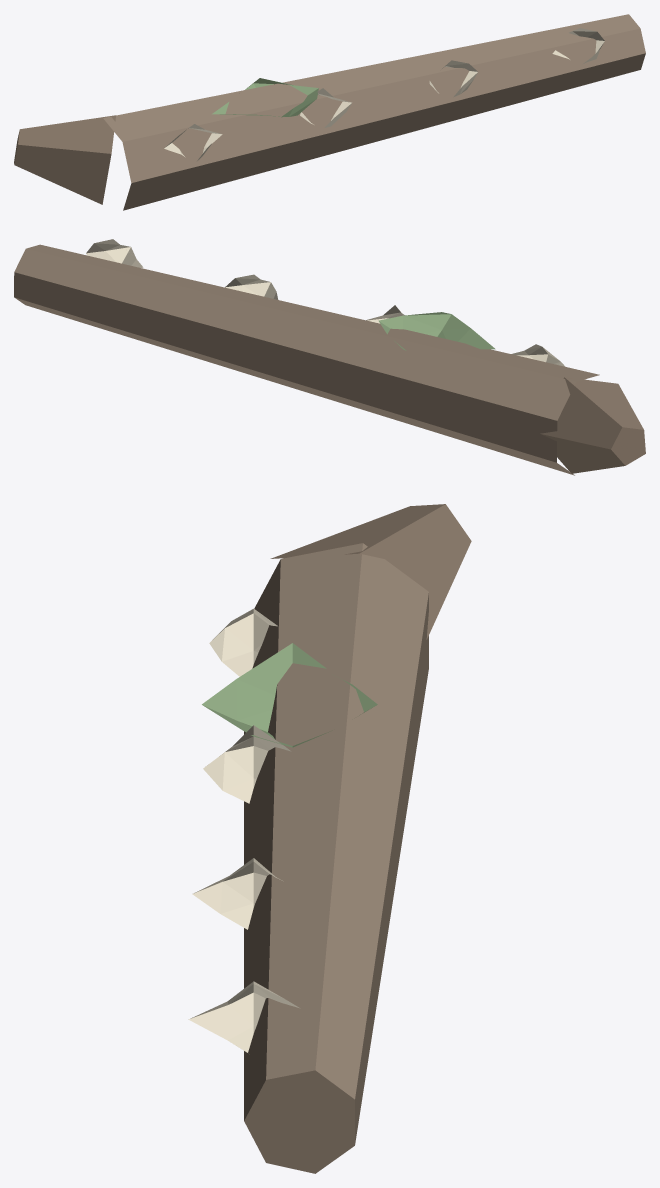
File: log_v44.glb
The picture shows the model from 3 angles, top to bottom: view 1: azimuth 30°, elevation 25°; view 2: azimuth 150°, elevation 25°; view 3: azimuth 270°, elevation 25°; orthographic projection. The views are drawn at different scales.
Parts seen in each view (by area): view 1: lod0; view 2: lod0; view 3: lod0.
Boxes of the visible parts, left/top/right/bottom form: lod0: left=14, top=14, right=645, bottom=210; lod0: left=14, top=239, right=645, bottom=475; lod0: left=188, top=504, right=471, bottom=1173.
Size of what is drawn, in the model's own units: 2.8 by 0.4375 by 0.5824.
